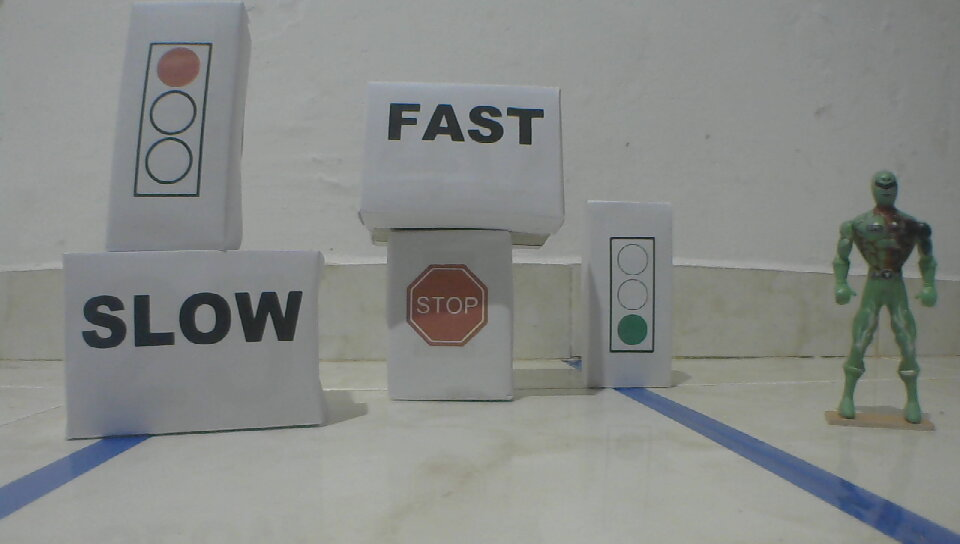Fast: (385, 101, 546, 148)
Green Traffic Light: (607, 235, 657, 355)
Person: (828, 167, 943, 425)
Red Traffic Light: (131, 39, 214, 199)
Slow: (82, 290, 304, 350)
Stop Sign: (403, 264, 491, 349)
